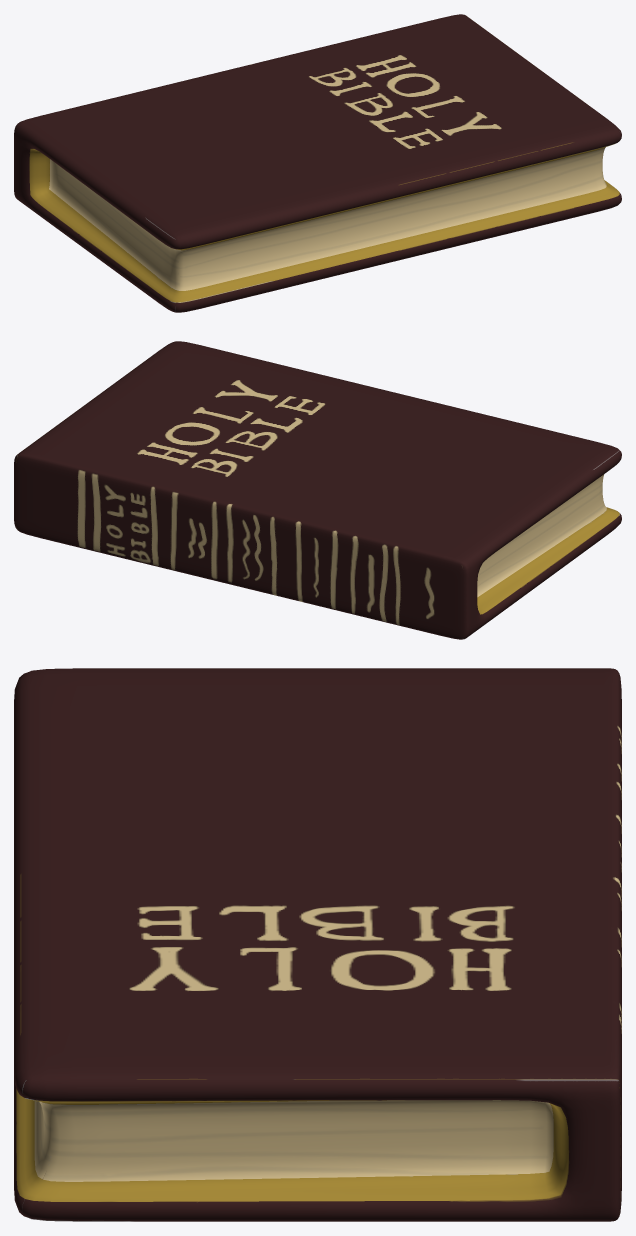
The model's file is THEBIBLEEEEEE.fbx.
3 renders of one model, top to bottom at view 1: azimuth 30°, elevation 25°; view 2: azimuth 150°, elevation 25°; view 3: azimuth 270°, elevation 25°, orthographic. The views are drawn at different scales.
Parts seen in each view (by area): view 1: Bible; view 2: Bible; view 3: Bible.
Boxes of the visible parts, left/top/right/bottom form: Bible: left=14, top=14, right=621, bottom=312; Bible: left=14, top=341, right=621, bottom=639; Bible: left=14, top=668, right=621, bottom=1221.
Size of the model in its own units: 0.3 by 0.0509 by 0.1847.
1 material, 1 textured.
